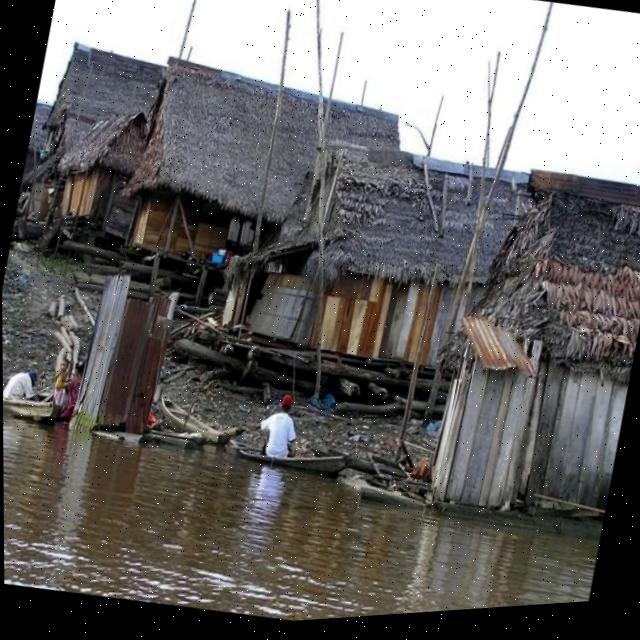civilian: (248, 382, 312, 480)
